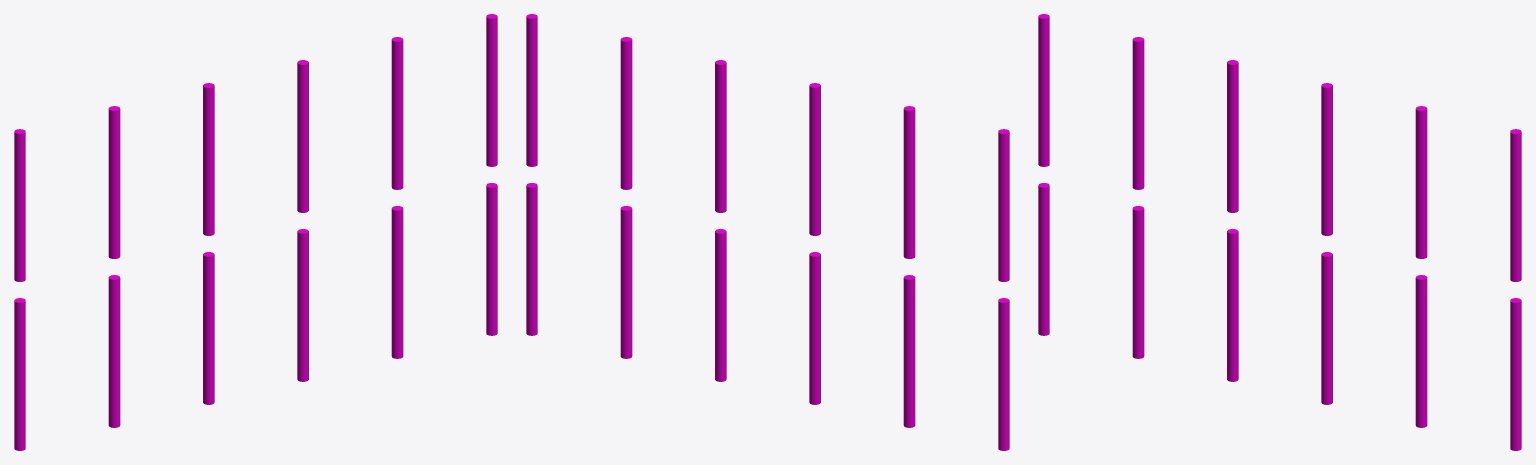
File: Pillars.fbx
The picture shows the model from 3 angles, left to right: view 1: azimuth 30°, elevation 25°; view 2: azimuth 150°, elevation 25°; view 3: azimuth 330°, elevation 25°; orthographic projection.
Visible parts, largest first — view 1: F_Pillars; view 2: F_Pillars; view 3: F_Pillars.
Boxes of the visible parts, left/top/right/bottom form: F_Pillars: left=14, top=14, right=497, bottom=450; F_Pillars: left=526, top=14, right=1009, bottom=450; F_Pillars: left=1038, top=14, right=1521, bottom=450.
Size of the model in its own units: 1940 by 1220 by 40.
